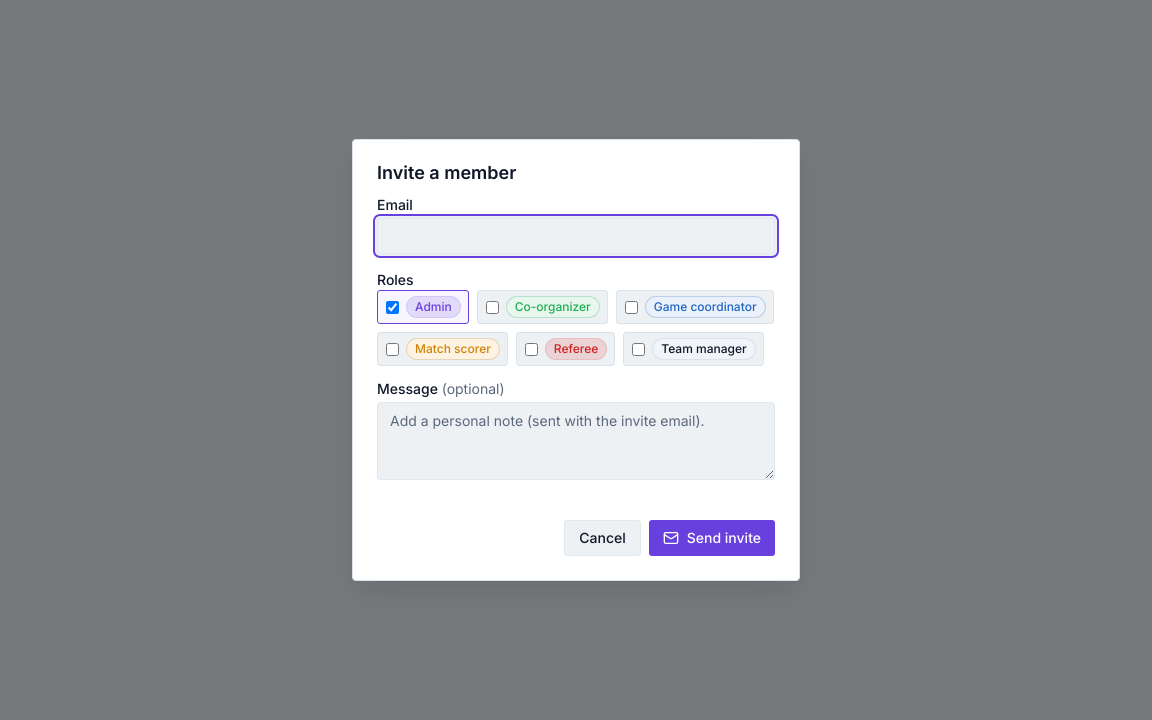
Scenario: InviteCreateModal › shows the backend error message when creation fails
Step 1. Type "dupe@example.com" into the field labelled "Email" → (576, 236), box [377,218,775,254]
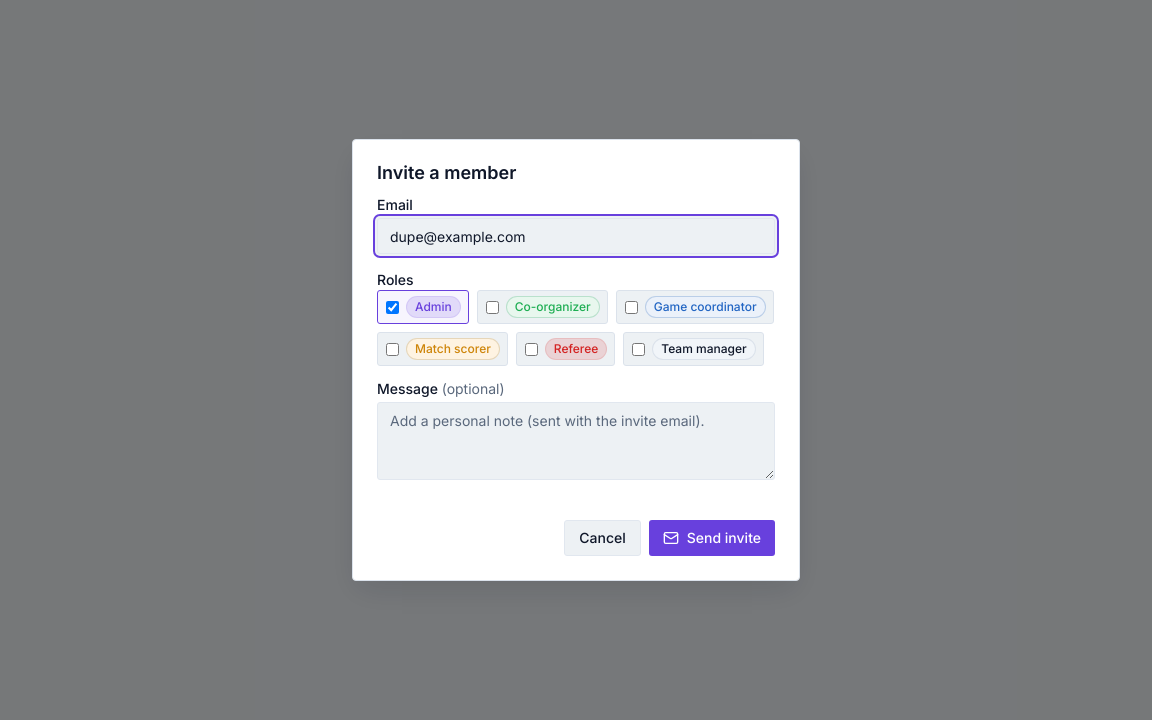
Step 2. Click the button with test id "invite-submit" → click(712, 538), box [649,520,775,556]
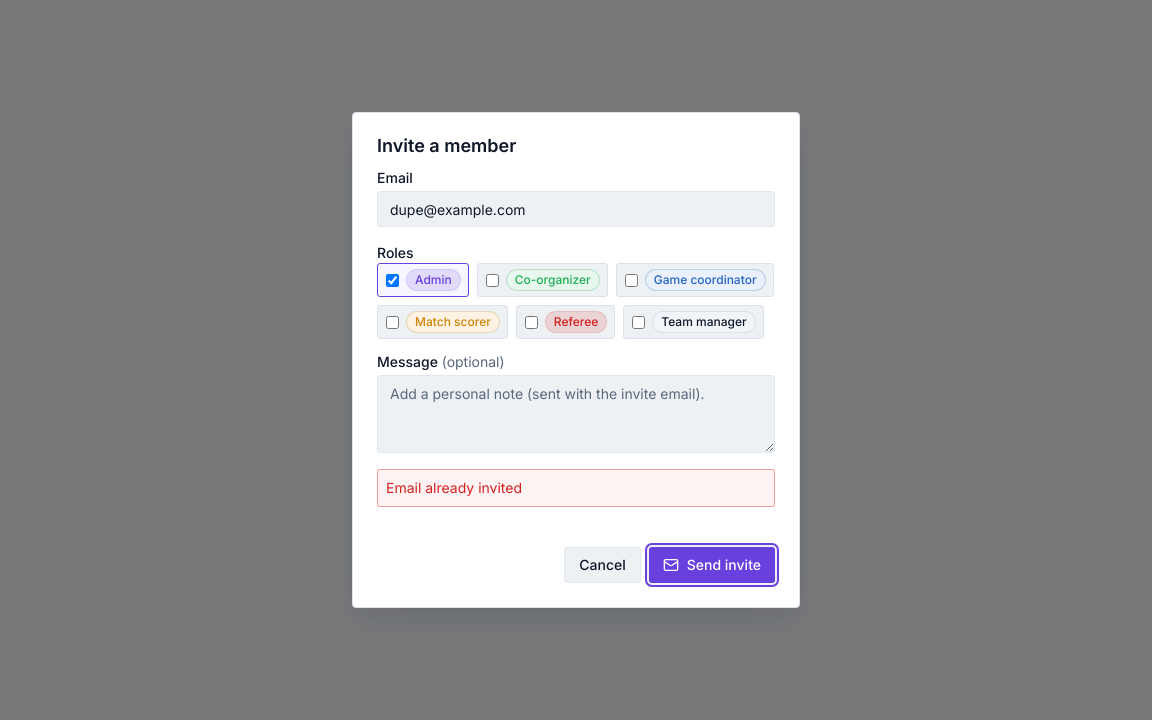
Result: the message with test id "invite-error" shows "already invited" at [386,479,522,496]
